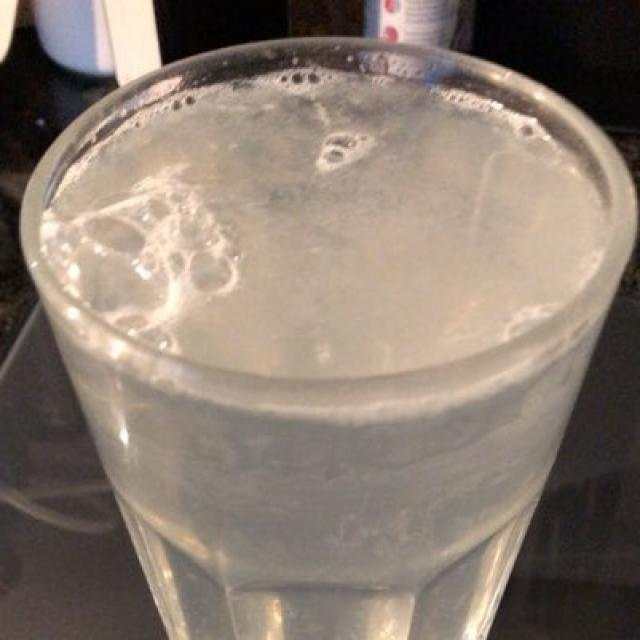water-with-lemon-juice: (32, 54, 608, 636)
